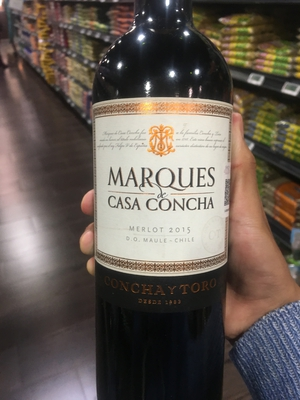marques de casa concha merlot: (95, 4, 230, 400)
